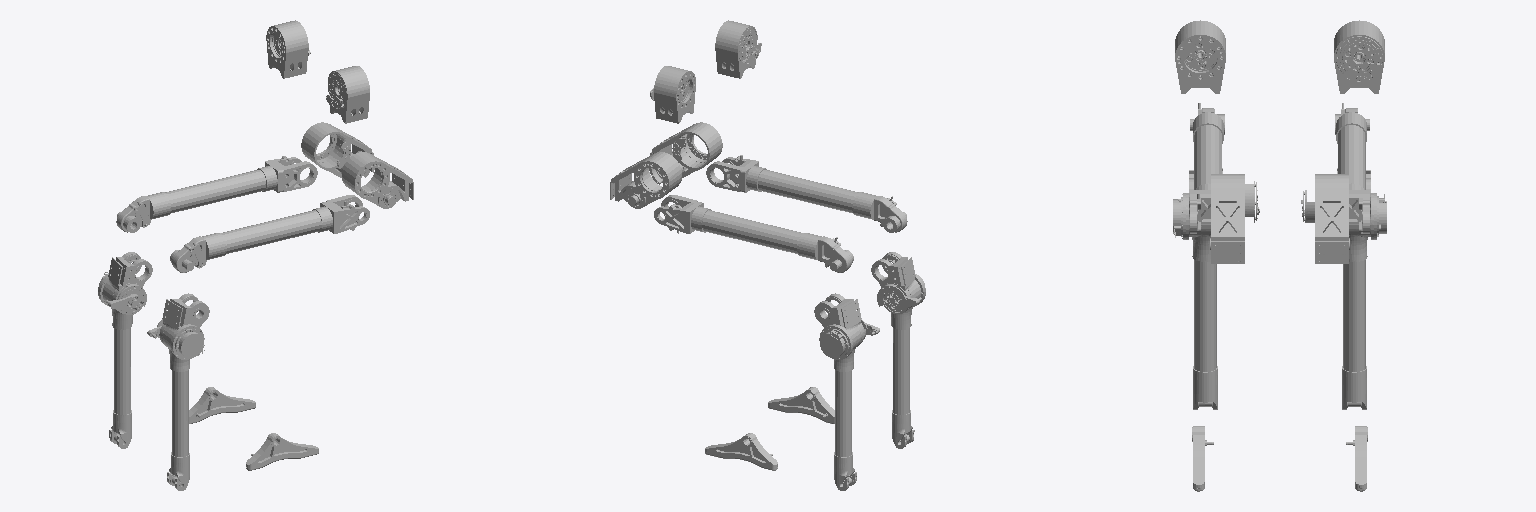
robot.urdf — URDF1:
<?xml version="1.0" encoding="utf-8"?>
<!-- This URDF was automatically created by SolidWorks to URDF Exporter! Originally created by [author] ([email redacted]) 
     Commit Version: 1.5.1-0-g916b5db  Build Version: 1.5.7152.31018
     For more information, please see http://wiki.ros.org/sw_urdf_exporter -->
<robot
  name="URDF1">
  <link
    name="base_link">
    <inertial>
      <origin
        xyz="0.012573 4.0034E-05 -0.016772"
        rpy="0 0 0" />
      <mass
        value="6.8222" />
      <inertia
        ixx="0.023762"
        ixy="-2.8373E-06"
        ixz="7.9788E-06"
        iyy="0.014556"
        iyz="-6.5952E-07"
        izz="0.010864" />
    </inertial>
    <visual>
      <origin
        xyz="0 0 0"
        rpy="0 0 0" />
      <geometry>
        <mesh
          filename="package://URDF1/meshes/base_link.STL" />
      </geometry>
      <material
        name="">
        <color
          rgba="0.86667 0.9098 1 1" />
      </material>
    </visual>
    <collision>
      <origin
        xyz="0 0 0"
        rpy="0 0 0" />
      <geometry>
        <mesh
          filename="package://URDF1/meshes/base_link.STL" />
      </geometry>
    </collision>
  </link>
  <link
    name="imu">
    <inertial>
      <origin
        xyz="0 6.6057E-19 -1.3878E-17"
        rpy="0 0 0" />
      <mass
        value="0.001" />
      <inertia
        ixx="1.6667E-08"
        ixy="-1.8525E-24"
        ixz="1.301E-24"
        iyy="1.6667E-08"
        iyz="5.5145E-25"
        izz="1.6667E-08" />
    </inertial>
    <visual>
      <origin
        xyz="0 0 0"
        rpy="0 0 0" />
      <geometry>
        <mesh
          filename="package://URDF1/meshes/imu.STL" />
      </geometry>
      <material
        name="">
        <color
          rgba="0.79608 0.82353 0.93725 1" />
      </material>
    </visual>
    <collision>
      <origin
        xyz="0 0 0"
        rpy="0 0 0" />
      <geometry>
        <mesh
          filename="package://URDF1/meshes/imu.STL" />
      </geometry>
    </collision>
  </link>
  <joint
    name="imu"
    type="fixed">
    <origin
      xyz="0.03613 0 0.085"
      rpy="0 0 0" />
    <parent
      link="base_link" />
    <child
      link="imu" />
    <axis
      xyz="0 0 0" />
  </joint>
  <link
    name="r_hip_roll">
    <inertial>
      <origin
        xyz="-0.020912 6.8667E-05 -0.041993"
        rpy="0 0 0" />
      <mass
        value="2.1005" />
      <inertia
        ixx="0.0019597"
        ixy="1.4958E-06"
        ixz="6.4715E-06"
        iyy="0.0012604"
        iyz="-5.6264E-07"
        izz="0.0012258" />
    </inertial>
    <visual>
      <origin
        xyz="0 0 0"
        rpy="0 0 0" />
      <geometry>
        <mesh
          filename="package://URDF1/meshes/r_hip_roll.STL" />
      </geometry>
      <material
        name="">
        <color
          rgba="0.75294 0.75294 0.75294 1" />
      </material>
    </visual>
    <collision>
      <origin
        xyz="0 0 0"
        rpy="0 0 0" />
      <geometry>
        <mesh
          filename="package://URDF1/meshes/r_hip_roll.STL" />
      </geometry>
    </collision>
  </link>
  <joint
    name="r_hip_r"
    type="revolute">
    <origin
      xyz="-0.0375 -0.13451 -0.047805"
      rpy="0 1.5708 0" />
    <parent
      link="base_link" />
    <child
      link="r_hip_roll" />
    <axis
      xyz="0 0 -1" />
    <limit
      lower="0"
      upper="0"
      effort="0"
      velocity="0" />
  </joint>
  <link
    name="r_hip_yaw">
    <inertial>
      <origin
        xyz="0.0036339 -4.7306E-05 -0.050912"
        rpy="0 0 0" />
      <mass
        value="2.4407" />
      <inertia
        ixx="0.002349"
        ixy="-1.5138E-07"
        ixz="-3.6883E-05"
        iyy="0.001698"
        iyz="-2.1966E-06"
        izz="0.0016018" />
    </inertial>
    <visual>
      <origin
        xyz="0 0 0"
        rpy="0 0 0" />
      <geometry>
        <mesh
          filename="package://URDF1/meshes/r_hip_yaw.STL" />
      </geometry>
      <material
        name="">
        <color
          rgba="0.75294 0.75294 0.75294 1" />
      </material>
    </visual>
    <collision>
      <origin
        xyz="0 0 0"
        rpy="0 0 0" />
      <geometry>
        <mesh
          filename="package://URDF1/meshes/r_hip_yaw.STL" />
      </geometry>
    </collision>
  </link>
  <joint
    name="r_hip_y"
    type="revolute">
    <origin
      xyz="0.0375 0 -0.043"
      rpy="-1.5708 0 1.5708" />
    <parent
      link="r_hip_roll" />
    <child
      link="r_hip_yaw" />
    <axis
      xyz="0 0 -1" />
    <limit
      lower="0"
      upper="0"
      effort="0"
      velocity="0" />
  </joint>
  <link
    name="r_thigh">
    <inertial>
      <origin
        xyz="0.068264 0.047753 0.059312"
        rpy="0 0 0" />
      <mass
        value="5.2139" />
      <inertia
        ixx="0.0042918"
        ixy="-0.001101"
        ixz="1.2857E-05"
        iyy="0.005094"
        iyz="9.3226E-06"
        izz="0.0079473" />
    </inertial>
    <visual>
      <origin
        xyz="0 0 0"
        rpy="0 0 0" />
      <geometry>
        <mesh
          filename="package://URDF1/meshes/r_thigh.STL" />
      </geometry>
      <material
        name="">
        <color
          rgba="0.75294 0.75294 0.75294 1" />
      </material>
    </visual>
    <collision>
      <origin
        xyz="0 0 0"
        rpy="0 0 0" />
      <geometry>
        <mesh
          filename="package://URDF1/meshes/r_thigh.STL" />
      </geometry>
    </collision>
  </link>
  <joint
    name="r_thigh"
    type="revolute">
    <origin
      xyz="0.0288 0 -0.0555"
      rpy="3.1416 1.5708 0" />
    <parent
      link="r_hip_yaw" />
    <child
      link="r_thigh" />
    <axis
      xyz="0 0 1" />
    <limit
      lower="0"
      upper="0"
      effort="0"
      velocity="0" />
  </joint>
  <link
    name="r_knee">
    <inertial>
      <origin
        xyz="0.066542 -0.040229 0.046833"
        rpy="0 0 0" />
      <mass
        value="1.0008" />
      <inertia
        ixx="0.0013462"
        ixy="0.0003601"
        ixz="6.6717E-05"
        iyy="0.0015024"
        iyz="-3.0433E-05"
        izz="0.0022932" />
    </inertial>
    <visual>
      <origin
        xyz="0 0 0"
        rpy="0 0 0" />
      <geometry>
        <mesh
          filename="package://URDF1/meshes/r_knee.STL" />
      </geometry>
      <material
        name="">
        <color
          rgba="0.75294 0.75294 0.75294 1" />
      </material>
    </visual>
    <collision>
      <origin
        xyz="0 0 0"
        rpy="0 0 0" />
      <geometry>
        <mesh
          filename="package://URDF1/meshes/r_knee.STL" />
      </geometry>
    </collision>
  </link>
  <joint
    name="r_knee"
    type="revolute">
    <origin
      xyz="0.098298 0.068829 -0.0175"
      rpy="0 0 0" />
    <parent
      link="r_thigh" />
    <child
      link="r_knee" />
    <axis
      xyz="0 0 1" />
    <limit
      lower="0"
      upper="0"
      effort="0"
      velocity="0" />
  </joint>
  <link
    name="r_shin">
    <inertial>
      <origin
        xyz="0.21191 0.064806 0.012149"
        rpy="0 0 0" />
      <mass
        value="0.79679" />
      <inertia
        ixx="0.0005668"
        ixy="-0.00052033"
        ixz="4.6694E-05"
        iyy="0.0019634"
        iyz="1.5632E-05"
        izz="0.0021956" />
    </inertial>
    <visual>
      <origin
        xyz="0 0 0"
        rpy="0 0 0" />
      <geometry>
        <mesh
          filename="package://URDF1/meshes/r_shin.STL" />
      </geometry>
      <material
        name="">
        <color
          rgba="0.75294 0.75294 0.75294 1" />
      </material>
    </visual>
    <collision>
      <origin
        xyz="0 0 0"
        rpy="0 0 0" />
      <geometry>
        <mesh
          filename="package://URDF1/meshes/r_shin.STL" />
      </geometry>
    </collision>
  </link>
  <joint
    name="r_shin"
    type="revolute">
    <origin
      xyz="0.062287 -0.045254 0.0332"
      rpy="0 0 -1.5708" />
    <parent
      link="r_knee" />
    <child
      link="r_shin" />
    <axis
      xyz="0 0 1" />
    <limit
      lower="0"
      upper="0"
      effort="0"
      velocity="0" />
  </joint>
  <link
    name="r_tarsus">
    <inertial>
      <origin
        xyz="0.096782 0.020003 0.01265"
        rpy="0 0 0" />
      <mass
        value="2.3874" />
      <inertia
        ixx="0.0017839"
        ixy="-0.001593"
        ixz="6.1454E-05"
        iyy="0.0034434"
        iyz="-9.6814E-06"
        izz="0.0047391" />
    </inertial>
    <visual>
      <origin
        xyz="0 0 0"
        rpy="0 0 0" />
      <geometry>
        <mesh
          filename="package://URDF1/meshes/r_tarsus.STL" />
      </geometry>
      <material
        name="">
        <color
          rgba="0.75294 0.75294 0.75294 1" />
      </material>
    </visual>
    <collision>
      <origin
        xyz="0 0 0"
        rpy="0 0 0" />
      <geometry>
        <mesh
          filename="package://URDF1/meshes/r_tarsus.STL" />
      </geometry>
    </collision>
  </link>
  <joint
    name="r_tarsus"
    type="revolute">
    <origin
      xyz="0.41244 0.13907 0.0021"
      rpy="0 0 1.5708" />
    <parent
      link="r_shin" />
    <child
      link="r_tarsus" />
    <axis
      xyz="0 0 1" />
    <limit
      lower="0"
      upper="0"
      effort="0"
      velocity="0" />
  </joint>
  <link
    name="r_toe">
    <inertial>
      <origin
        xyz="0.031861 0.013184 -0.00022553"
        rpy="0 0 0" />
      <mass
        value="0.19132" />
      <inertia
        ixx="0.00040578"
        ixy="-1.8063E-05"
        ixz="3.5377E-07"
        iyy="4.5759E-05"
        iyz="-2.2569E-06"
        izz="0.00043982" />
    </inertial>
    <visual>
      <origin
        xyz="0 0 0"
        rpy="0 0 0" />
      <geometry>
        <mesh
          filename="package://URDF1/meshes/r_toe.STL" />
      </geometry>
      <material
        name="">
        <color
          rgba="0.75294 0.75294 0.75294 1" />
      </material>
    </visual>
    <collision>
      <origin
        xyz="0 0 0"
        rpy="0 0 0" />
      <geometry>
        <mesh
          filename="package://URDF1/meshes/r_toe.STL" />
      </geometry>
    </collision>
  </link>
  <joint
    name="r_toe"
    type="revolute">
    <origin
      xyz="0.35711 0.19931 0.0138"
      rpy="0 0 0" />
    <parent
      link="r_tarsus" />
    <child
      link="r_toe" />
    <axis
      xyz="0 0 -1" />
    <limit
      lower="0"
      upper="0"
      effort="0"
      velocity="0" />
  </joint>
  <link
    name="l_hip_roll">
    <inertial>
      <origin
        xyz="-0.020912 6.8667E-05 -0.041993"
        rpy="0 0 0" />
      <mass
        value="2.1005" />
      <inertia
        ixx="0.0019597"
        ixy="1.4958E-06"
        ixz="6.4715E-06"
        iyy="0.0012604"
        iyz="-5.6264E-07"
        izz="0.0012258" />
    </inertial>
    <visual>
      <origin
        xyz="0 0 0"
        rpy="0 0 0" />
      <geometry>
        <mesh
          filename="package://URDF1/meshes/l_hip_roll.STL" />
      </geometry>
      <material
        name="">
        <color
          rgba="0.75294 0.75294 0.75294 1" />
      </material>
    </visual>
    <collision>
      <origin
        xyz="0 0 0"
        rpy="0 0 0" />
      <geometry>
        <mesh
          filename="package://URDF1/meshes/l_hip_roll.STL" />
      </geometry>
    </collision>
  </link>
  <joint
    name="l_hip_r"
    type="revolute">
    <origin
      xyz="-0.0375 0.13451 -0.047805"
      rpy="0 1.5708 0" />
    <parent
      link="base_link" />
    <child
      link="l_hip_roll" />
    <axis
      xyz="0 0 -1" />
    <limit
      lower="0"
      upper="0"
      effort="0"
      velocity="0" />
  </joint>
  <link
    name="l_hip_yaw">
    <inertial>
      <origin
        xyz="-0.0036339 4.7305E-05 -0.050912"
        rpy="0 0 0" />
      <mass
        value="2.4407" />
      <inertia
        ixx="0.002349"
        ixy="-1.5138E-07"
        ixz="3.6883E-05"
        iyy="0.001698"
        iyz="2.1966E-06"
        izz="0.0016018" />
    </inertial>
    <visual>
      <origin
        xyz="0 0 0"
        rpy="0 0 0" />
      <geometry>
        <mesh
          filename="package://URDF1/meshes/l_hip_yaw.STL" />
      </geometry>
      <material
        name="">
        <color
          rgba="0.75294 0.75294 0.75294 1" />
      </material>
    </visual>
    <collision>
      <origin
        xyz="0 0 0"
        rpy="0 0 0" />
      <geometry>
        <mesh
          filename="package://URDF1/meshes/l_hip_yaw.STL" />
      </geometry>
    </collision>
  </link>
  <joint
    name="l_hip_y"
    type="revolute">
    <origin
      xyz="0.0375 0 -0.043"
      rpy="-1.5708 0 1.5708" />
    <parent
      link="l_hip_roll" />
    <child
      link="l_hip_yaw" />
    <axis
      xyz="0 0 -1" />
    <limit
      lower="0"
      upper="0"
      effort="0"
      velocity="0" />
  </joint>
  <link
    name="l_thigh">
    <inertial>
      <origin
        xyz="0.068221 0.047815 -0.059312"
        rpy="0 0 0" />
      <mass
        value="5.2139" />
      <inertia
        ixx="0.0042925"
        ixy="-0.0011012"
        ixz="-1.3158E-05"
        iyy="0.0050934"
        iyz="-8.8928E-06"
        izz="0.0079473" />
    </inertial>
    <visual>
      <origin
        xyz="0 0 0"
        rpy="0 0 0" />
      <geometry>
        <mesh
          filename="package://URDF1/meshes/l_thigh.STL" />
      </geometry>
      <material
        name="">
        <color
          rgba="0.75294 0.75294 0.75294 1" />
      </material>
    </visual>
    <collision>
      <origin
        xyz="0 0 0"
        rpy="0 0 0" />
      <geometry>
        <mesh
          filename="package://URDF1/meshes/l_thigh.STL" />
      </geometry>
    </collision>
  </link>
  <joint
    name="l_thigh"
    type="revolute">
    <origin
      xyz="-0.0288 0 -0.0555"
      rpy="3.1416 1.5708 0" />
    <parent
      link="l_hip_yaw" />
    <child
      link="l_thigh" />
    <axis
      xyz="0 0 -1" />
    <limit
      lower="0"
      upper="0"
      effort="0"
      velocity="0" />
  </joint>
  <link
    name="l_knee">
    <inertial>
      <origin
        xyz="0.066659 -0.040634 -0.046843"
        rpy="0 0 0" />
      <mass
        value="1.0008" />
      <inertia
        ixx="0.0013479"
        ixy="0.0003574"
        ixz="-6.6572E-05"
        iyy="0.0015007"
        iyz="2.9928E-05"
        izz="0.0022932" />
    </inertial>
    <visual>
      <origin
        xyz="0 0 0"
        rpy="0 0 0" />
      <geometry>
        <mesh
          filename="package://URDF1/meshes/l_knee.STL" />
      </geometry>
      <material
        name="">
        <color
          rgba="0.75294 0.75294 0.75294 1" />
      </material>
    </visual>
    <collision>
      <origin
        xyz="0 0 0"
        rpy="0 0 0" />
      <geometry>
        <mesh
          filename="package://URDF1/meshes/l_knee.STL" />
      </geometry>
    </collision>
  </link>
  <joint
    name="l_knee"
    type="revolute">
    <origin
      xyz="0.098298 0.068829 0.0175"
      rpy="0 0 0" />
    <parent
      link="l_thigh" />
    <child
      link="l_knee" />
    <axis
      xyz="0 0 -1" />
    <limit
      lower="0"
      upper="0"
      effort="0"
      velocity="0" />
  </joint>
  <link
    name="l_shin">
    <inertial>
      <origin
        xyz="0.2119 0.064828 -0.011959"
        rpy="0 0 0" />
      <mass
        value="0.79679" />
      <inertia
        ixx="0.00056688"
        ixy="-0.00052046"
        ixz="-4.6685E-05"
        iyy="0.0019634"
        iyz="-1.5623E-05"
        izz="0.0021956" />
    </inertial>
    <visual>
      <origin
        xyz="0 0 0"
        rpy="0 0 0" />
      <geometry>
        <mesh
          filename="package://URDF1/meshes/l_shin.STL" />
      </geometry>
      <material
        name="">
        <color
          rgba="0.75294 0.75294 0.75294 1" />
      </material>
    </visual>
    <collision>
      <origin
        xyz="0 0 0"
        rpy="0 0 0" />
      <geometry>
        <mesh
          filename="package://URDF1/meshes/l_shin.STL" />
      </geometry>
    </collision>
  </link>
  <joint
    name="l_shin"
    type="revolute">
    <origin
      xyz="0.062287 -0.045254 -0.0332"
      rpy="0 0 -1.5708" />
    <parent
      link="l_knee" />
    <child
      link="l_shin" />
    <axis
      xyz="0 0 -1" />
    <limit
      lower="0"
      upper="0"
      effort="0"
      velocity="0" />
  </joint>
  <link
    name="l_tarsus">
    <inertial>
      <origin
        xyz="0.096792 0.019976 -0.012657"
        rpy="0 0 0" />
      <mass
        value="2.385" />
      <inertia
        ixx="0.0017842"
        ixy="-0.0015921"
        ixz="-6.1579E-05"
        iyy="0.003443"
        iyz="9.323E-06"
        izz="0.0047391" />
    </inertial>
    <visual>
      <origin
        xyz="0 0 0"
        rpy="0 0 0" />
      <geometry>
        <mesh
          filename="package://URDF1/meshes/l_tarsus.STL" />
      </geometry>
      <material
        name="">
        <color
          rgba="0.75294 0.75294 0.75294 1" />
      </material>
    </visual>
    <collision>
      <origin
        xyz="0 0 0"
        rpy="0 0 0" />
      <geometry>
        <mesh
          filename="package://URDF1/meshes/l_tarsus.STL" />
      </geometry>
    </collision>
  </link>
  <joint
    name="l_tarsus"
    type="revolute">
    <origin
      xyz="0.41244 0.13907 -0.0021"
      rpy="0 0 1.5708" />
    <parent
      link="l_shin" />
    <child
      link="l_tarsus" />
    <axis
      xyz="0 0 -1" />
    <limit
      lower="0"
      upper="0"
      effort="0"
      velocity="0" />
  </joint>
  <link
    name="l_toe">
    <inertial>
      <origin
        xyz="0.03649 0.014972 0.00016156"
        rpy="0 0 0" />
      <mass
        value="0.095046" />
      <inertia
        ixx="0.00021432"
        ixy="-7.1945E-06"
        ixz="-1.2589E-07"
        iyy="1.7806E-05"
        iyz="8.0273E-07"
        izz="0.00022603" />
    </inertial>
    <visual>
      <origin
        xyz="0 0 0"
        rpy="0 0 0" />
      <geometry>
        <mesh
          filename="package://URDF1/meshes/l_toe.STL" />
      </geometry>
      <material
        name="">
        <color
          rgba="0.75294 0.75294 0.75294 1" />
      </material>
    </visual>
    <collision>
      <origin
        xyz="0 0 0"
        rpy="0 0 0" />
      <geometry>
        <mesh
          filename="package://URDF1/meshes/l_toe.STL" />
      </geometry>
    </collision>
  </link>
  <joint
    name="l_toe"
    type="revolute">
    <origin
      xyz="0.35711 0.19931 -0.014"
      rpy="0 0 0" />
    <parent
      link="l_tarsus" />
    <child
      link="l_toe" />
    <axis
      xyz="0 0 -1" />
    <limit
      lower="0"
      upper="0"
      effort="0"
      velocity="0" />
  </joint>
</robot>

--- Render facts (derived) ---
The picture shows the robot from 3 angles, left to right: view 1: azimuth 30°, elevation 25°; view 2: azimuth 150°, elevation 25°; view 3: azimuth 270°, elevation 25°; orthographic projection.
Robot: URDF1 — 16 links, 15 joints (14 revolute, 1 fixed); root link base_link; default pose: all joints at 0.
Visible links, largest first — view 1: r_shin, l_shin, r_tarsus, l_tarsus, r_knee, r_hip_yaw, l_hip_yaw, l_knee, r_toe, l_toe; view 2: l_shin, r_shin, l_tarsus, r_tarsus, l_knee, r_hip_yaw, l_hip_yaw, r_knee, l_toe, r_toe; view 3: r_tarsus, l_tarsus, r_knee, l_knee, r_hip_yaw, l_hip_yaw, r_shin, l_shin, r_toe, l_toe.
Boxes of the visible links, x1,y1,x2,y2 form: r_shin: (170, 195, 369, 272); l_shin: (116, 156, 317, 232); r_tarsus: (147, 293, 209, 490); l_tarsus: (98, 252, 152, 448); r_knee: (342, 151, 413, 208); r_hip_yaw: (326, 66, 369, 123); l_hip_yaw: (266, 20, 310, 78); l_knee: (301, 122, 373, 177); r_toe: (246, 433, 318, 470); l_toe: (189, 387, 255, 423); l_shin: (654, 195, 853, 272); r_shin: (706, 155, 907, 232); l_tarsus: (814, 293, 879, 490); r_tarsus: (871, 252, 925, 448); l_knee: (610, 152, 681, 208); r_hip_yaw: (715, 20, 761, 78); l_hip_yaw: (650, 66, 695, 123); r_knee: (650, 122, 722, 177); l_toe: (705, 433, 777, 470); r_toe: (768, 387, 834, 423); r_tarsus: (1173, 168, 1222, 409); l_tarsus: (1337, 168, 1386, 409); r_knee: (1210, 174, 1259, 263); l_knee: (1301, 174, 1349, 263); r_hip_yaw: (1175, 20, 1225, 93); l_hip_yaw: (1334, 20, 1384, 93); r_shin: (1190, 103, 1224, 233); l_shin: (1335, 103, 1369, 233); r_toe: (1192, 426, 1213, 491); l_toe: (1346, 426, 1367, 491).
Size in the robot's own frame: 0.6566 by 0.362 by 0.9127 metres.
Meshes: 16 distinct files referenced, 10 mesh visuals loaded (10 binary STL); not drawn: 6 (reference not matched to a file when rendering).